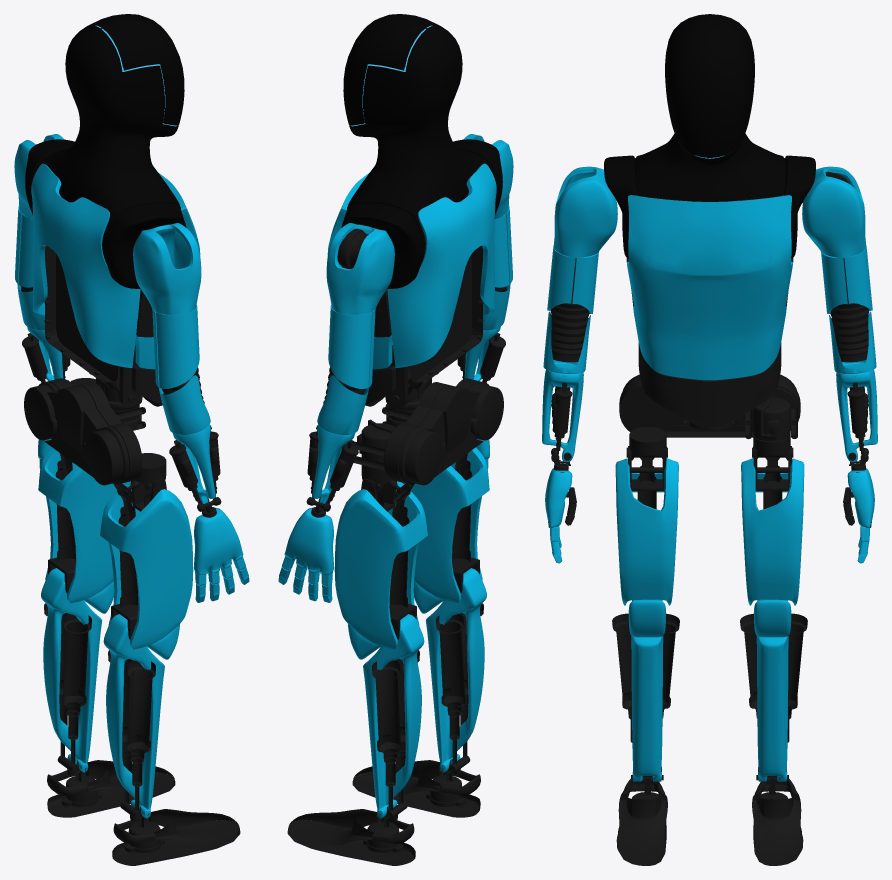
File: community-manager.glb
3 views of the same model, side by side, from view 1: azimuth 30°, elevation 25°; view 2: azimuth 150°, elevation 25°; view 3: azimuth 270°, elevation 25° (orthographic).
Parts seen in each view (by area): view 1: Cube.001; view 2: Cube.001; view 3: Cube.001.
Part boxes in pixels (left/top/right/bottom): Cube.001: left=14, top=14, right=249, bottom=865; Cube.001: left=278, top=14, right=513, bottom=865; Cube.001: left=542, top=14, right=877, bottom=865.
Bounding box in the file's own units: 0.3406 × 1.7 × 0.6396.
